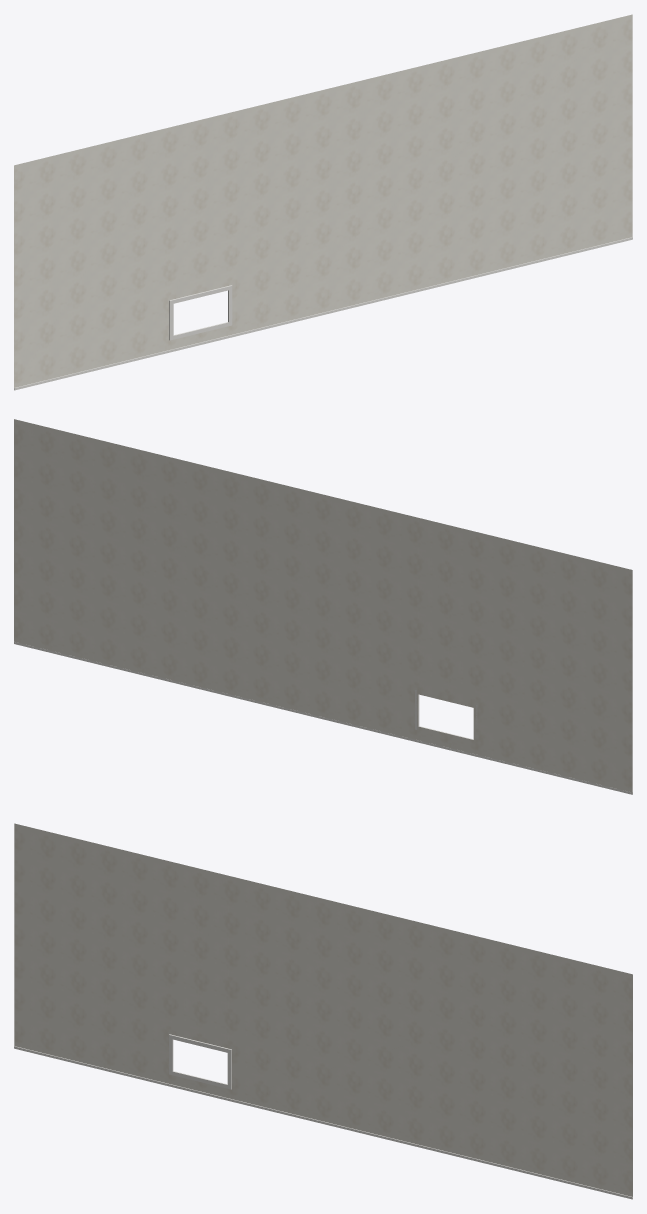
3 renders of one model, top to bottom at view 1: azimuth 30°, elevation 25°; view 2: azimuth 150°, elevation 25°; view 3: azimuth 330°, elevation 25°, orthographic.
Parts seen in each view (by area): view 1: jx_wm_40_0bb3966a; view 2: jx_wm_40_0bb3966a; view 3: jx_wm_40_0bb3966a.
Part boxes in pixels (x1,y1,x2,y2): jx_wm_40_0bb3966a: (14,14,632,390); jx_wm_40_0bb3966a: (14,419,632,794); jx_wm_40_0bb3966a: (14,823,632,1199).
Bounding box in the file's own units: 40.3 × 14 × 0.086.
2 materials, 2 textured.
